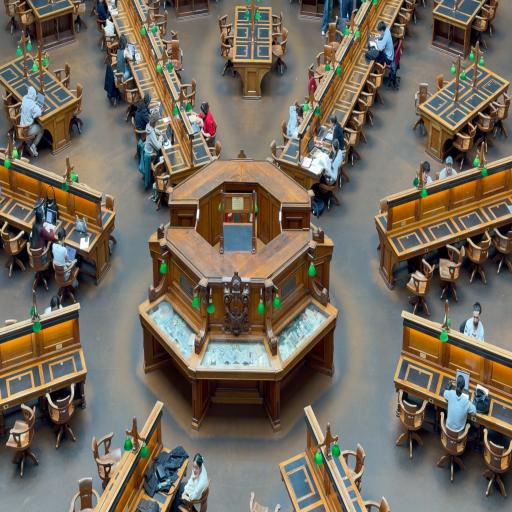empty_seat: (6, 405, 38, 478), (395, 390, 427, 460), (481, 430, 511, 498), (46, 388, 77, 448), (406, 260, 434, 315), (92, 434, 119, 490), (1, 222, 27, 279), (464, 234, 491, 286), (438, 245, 463, 301), (341, 443, 366, 492), (451, 124, 476, 169), (68, 477, 98, 512), (490, 92, 511, 141), (490, 226, 511, 275), (473, 108, 496, 152), (6, 0, 34, 36), (413, 82, 431, 136), (151, 162, 172, 208), (470, 4, 492, 46), (367, 60, 387, 105), (67, 82, 84, 133), (120, 75, 142, 113), (163, 36, 184, 74), (273, 26, 288, 74), (354, 92, 374, 127), (481, 0, 499, 37), (98, 0, 116, 37), (104, 192, 117, 242), (220, 34, 235, 74), (216, 13, 235, 43), (52, 62, 72, 90), (252, 491, 280, 511), (314, 44, 333, 73), (150, 6, 167, 38), (391, 18, 408, 50), (320, 0, 334, 36), (338, 0, 354, 30), (70, 0, 85, 30), (96, 0, 112, 24), (402, 0, 418, 23), (336, 16, 350, 42), (107, 34, 118, 66), (272, 11, 287, 32), (103, 14, 115, 38), (436, 74, 448, 92)
occupied_seat: (432, 376, 476, 472), (28, 200, 57, 287), (178, 451, 210, 512), (143, 108, 167, 188), (367, 19, 395, 86), (108, 34, 135, 102), (19, 86, 44, 157), (52, 229, 77, 288), (320, 139, 342, 188), (133, 91, 151, 147), (196, 101, 217, 149), (324, 114, 345, 155), (462, 302, 484, 338), (288, 104, 304, 138), (414, 160, 431, 188), (438, 157, 456, 181)
